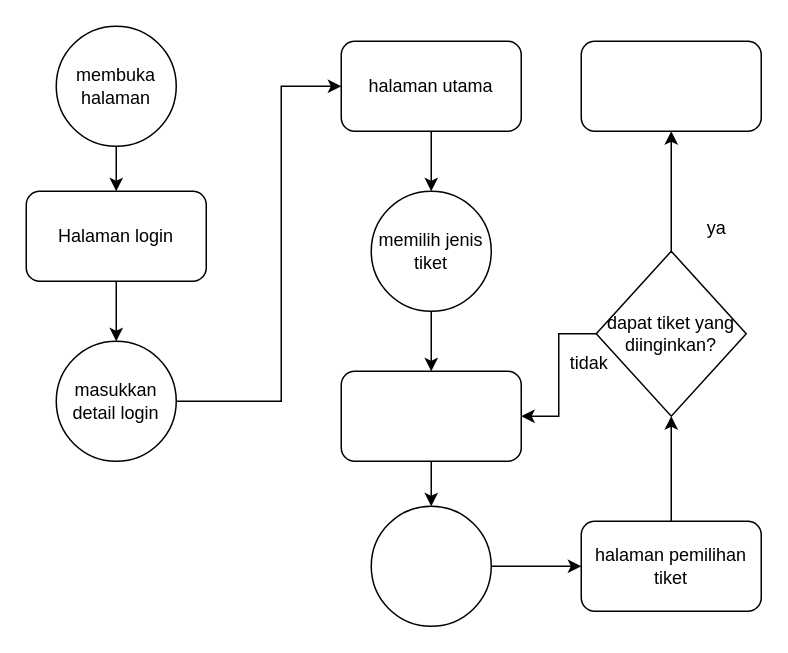
Image size: 788x653. Some labels were removed from this diagram. The shapes that lost their labels are listed below. From the top down, each one's box as (x1, y1, x2, y2) in pixels, then its label:
(580, 40, 761, 131): halaman pembayaran
(340, 370, 521, 461): halaman detail tiket
(370, 505, 491, 626): masukkan detail tiket
